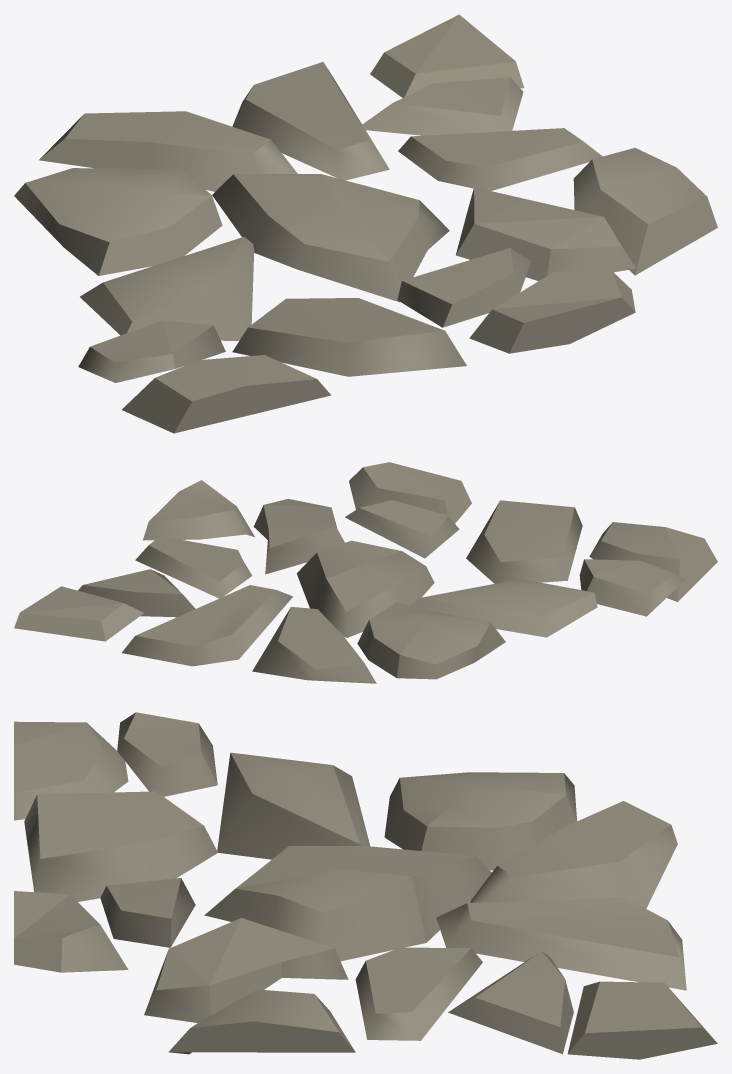
Rendered from Stone_Path_Turn_LU.glb.
3 renders of one model, top to bottom at view 1: azimuth 30°, elevation 25°; view 2: azimuth 150°, elevation 25°; view 3: azimuth 270°, elevation 25°, orthographic. The views are drawn at different scales.
Visible parts, largest first — view 1: Stone_Path_Turn_LU; view 2: Stone_Path_Turn_LU; view 3: Stone_Path_Turn_LU.
Boxes of the visible parts, x1,y1,x2,y2 form: Stone_Path_Turn_LU: [14, 14, 717, 433]; Stone_Path_Turn_LU: [14, 462, 717, 683]; Stone_Path_Turn_LU: [14, 712, 717, 1059].
Size of the model in its own units: 1.17 by 0.1445 by 1.11.
